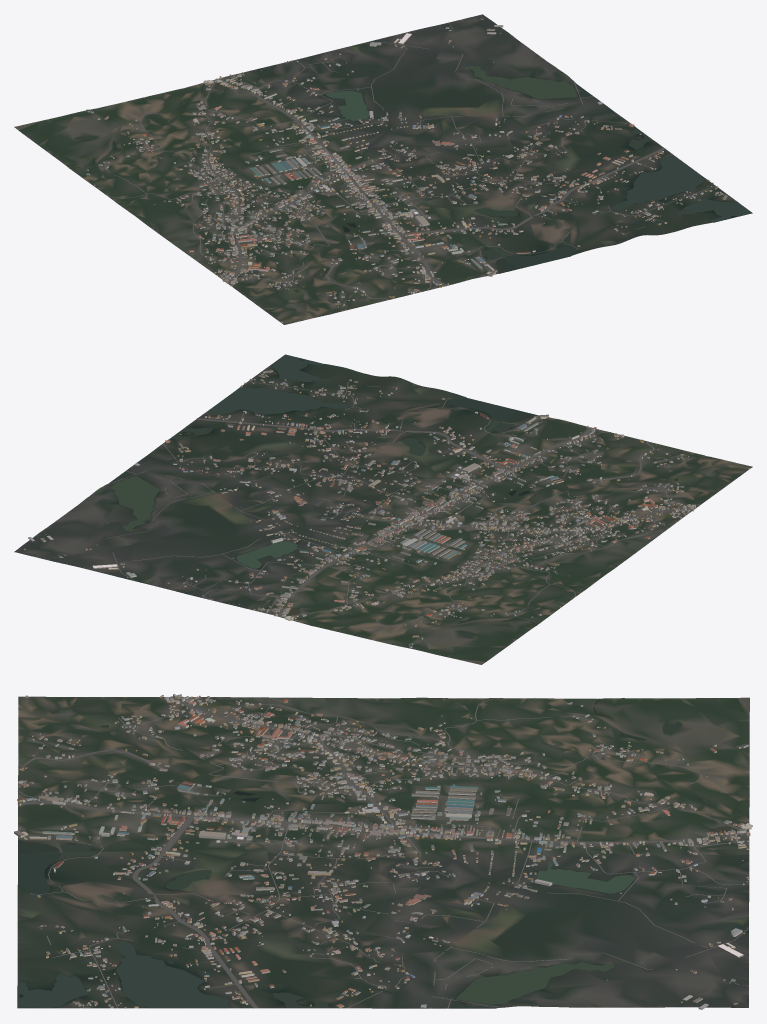
3 views of the same model, one above another, from view 1: azimuth 30°, elevation 25°; view 2: azimuth 150°, elevation 25°; view 3: azimuth 270°, elevation 25° (orthographic). The views are drawn at different scales.
Visible parts, largest first — view 1: ground, buildings, water, roads; view 2: ground, buildings, water, roads; view 3: ground, buildings, water, roads.
Boxes of the visible parts, left/top/right/bottom form: ground: left=14, top=14, right=752, bottom=324; buildings: left=86, top=18, right=727, bottom=322; water: left=70, top=66, right=751, bottom=292; roads: left=104, top=22, right=729, bottom=299; ground: left=14, top=354, right=752, bottom=664; buildings: left=23, top=370, right=749, bottom=647; water: left=109, top=354, right=678, bottom=638; roads: left=48, top=371, right=696, bottom=627; ground: left=17, top=696, right=749, bottom=1008; buildings: left=14, top=694, right=752, bottom=1009; water: left=17, top=698, right=748, bottom=1008; roads: left=17, top=696, right=749, bottom=1008.
Size of the model in its own units: 2830 by 33.89 by 2833.
